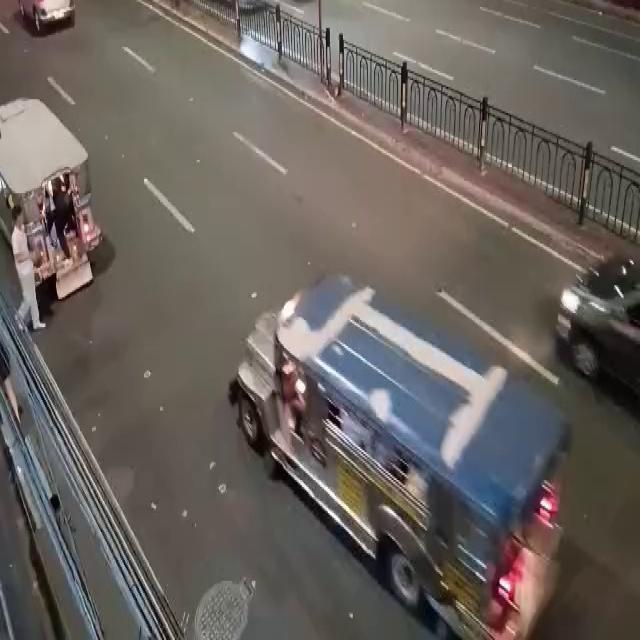car: (552, 224, 640, 384)
jeepney: (53, 253, 436, 638), (0, 67, 109, 355)
